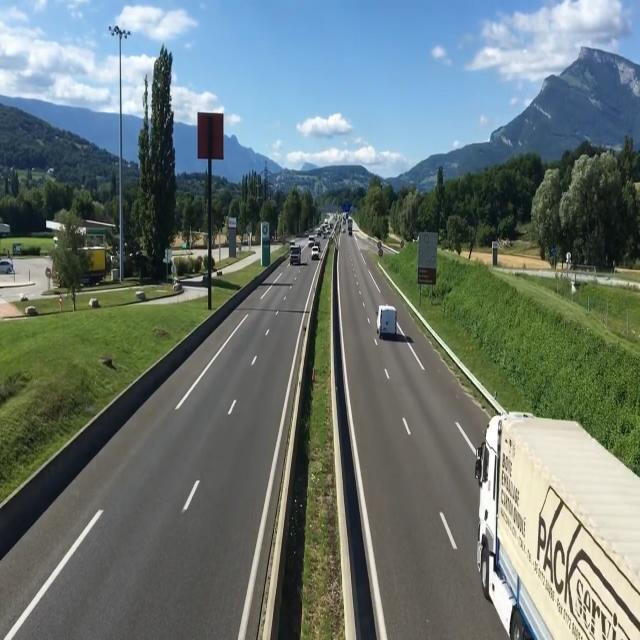car: (378, 303, 403, 347), (286, 234, 305, 269), (310, 242, 320, 262)
truck: (472, 404, 616, 640)
